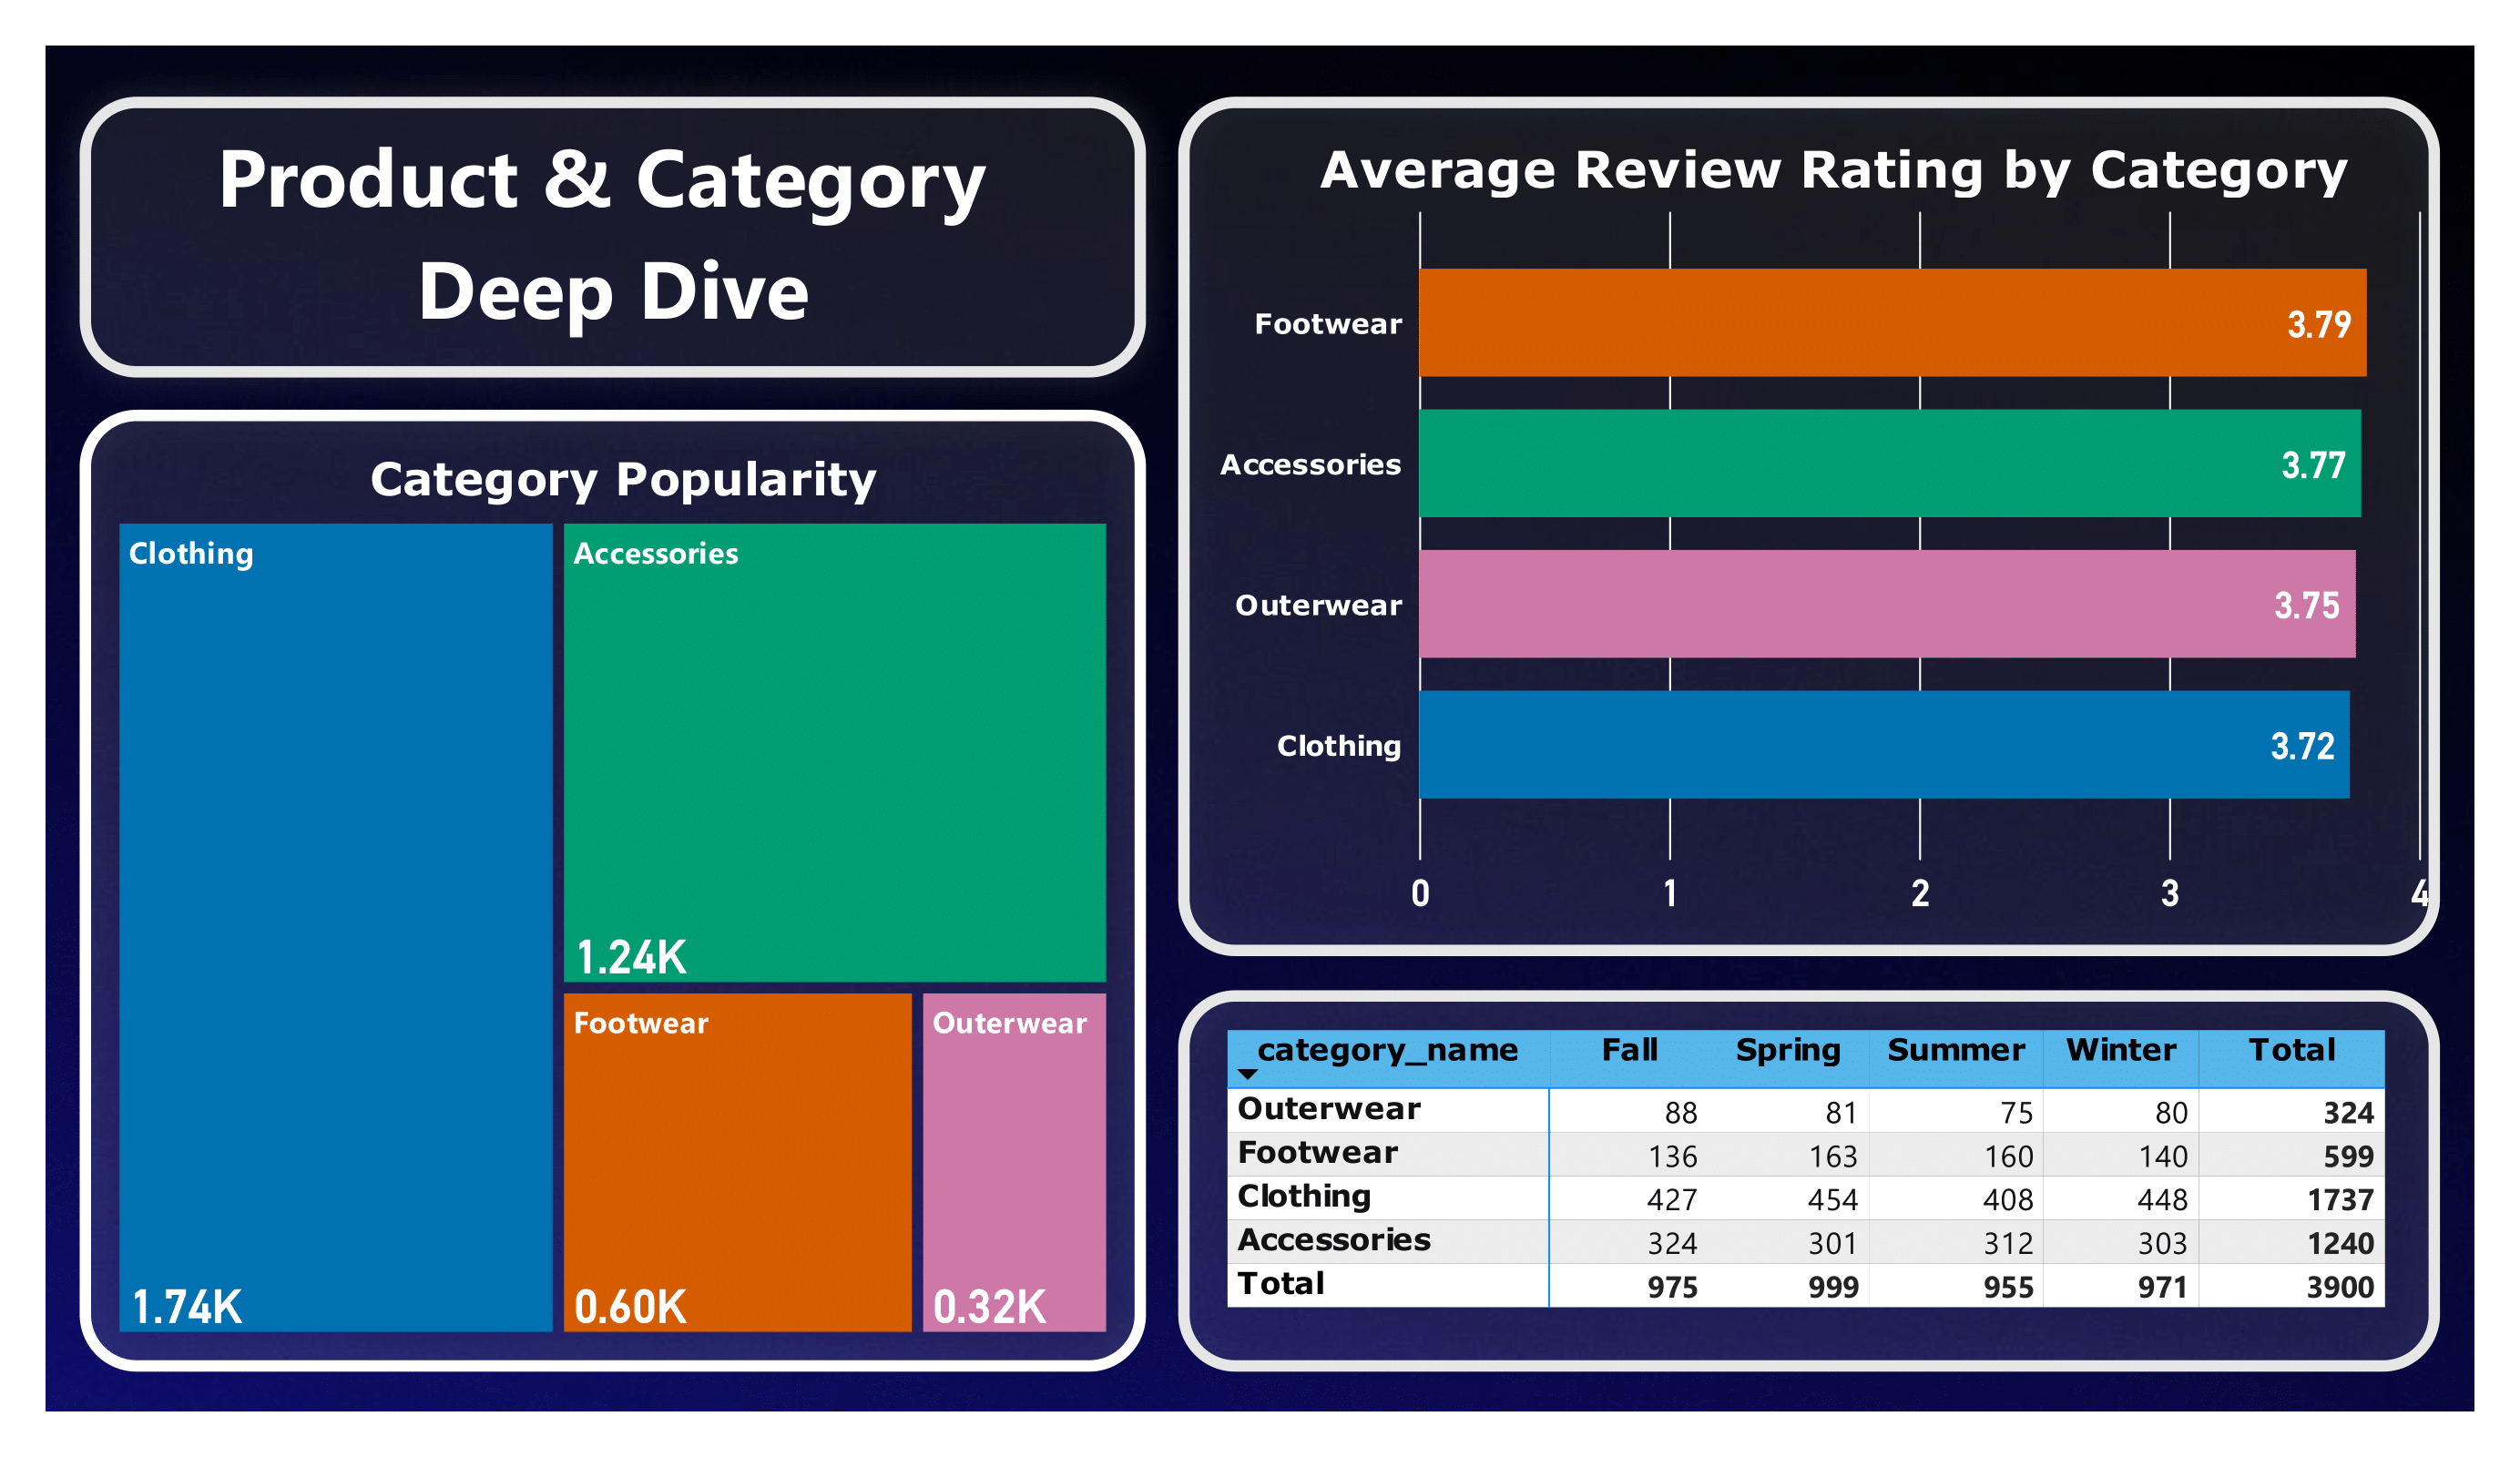

What the dashboard file says about the page in this screenshot:
{"tool":"powerbi","page":{"name":"Product & Category Deep Dive","canvas":[1280,720],"ordinal":1},"visuals":[{"type":"textbox","box":[17.7,27.4,561.9,148.1],"z":0},{"type":"treemap","title":"Category Popularity","fields":{"Group":["public categories.category_name"],"Values":["public shopping_trend.Total Customers"]},"box":[17.7,191.6,561.9,507.2],"z":2000},{"type":"pivotTable","title":"Distribution of Customers by Age Group","fields":{"Rows":["public categories.category_name"],"Columns":["public shopping_trend.season"],"Values":["public shopping_trend.Total Customers"]},"box":[597.3,497.5,665,201.3],"z":3000},{"type":"clusteredBarChart","title":" Average Review Rating by Category","fields":{"Category":["public categories.category_name"],"Y":["public shopping_trend.Avg Review Rating"]},"box":[597.3,27.4,665,452.4],"z":4000}]}

Visuals, with their boxes in screenshot pixels (x1, y1, x2, y2):
textbox: 86:97:1138:374
"Category Popularity" treemap: 86:404:1138:1354
"Distribution of Customers by Age Group" pivotTable: 1171:977:2416:1354
" Average Review Rating by Category" clusteredBarChart: 1171:97:2416:944
